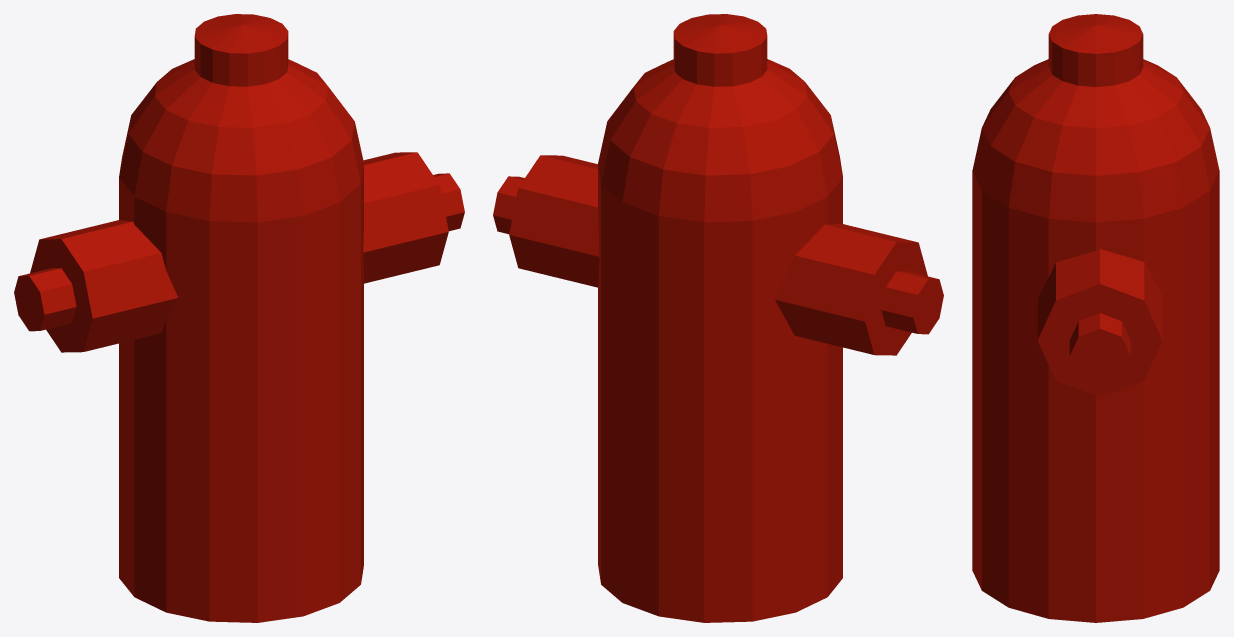
The model's file is hydrant.gltf.
The picture shows the model from 3 angles, left to right: view 1: azimuth 30°, elevation 25°; view 2: azimuth 150°, elevation 25°; view 3: azimuth 270°, elevation 25°; orthographic projection.
Visible parts, largest first — view 1: Sphere; view 2: Sphere; view 3: Sphere.
Part boxes in pixels (x1,y1,x2,y2): Sphere: [14, 14, 464, 622]; Sphere: [493, 14, 943, 622]; Sphere: [972, 14, 1219, 622].
Size of the model in its own units: 2.32 by 2.88 by 1.18.
